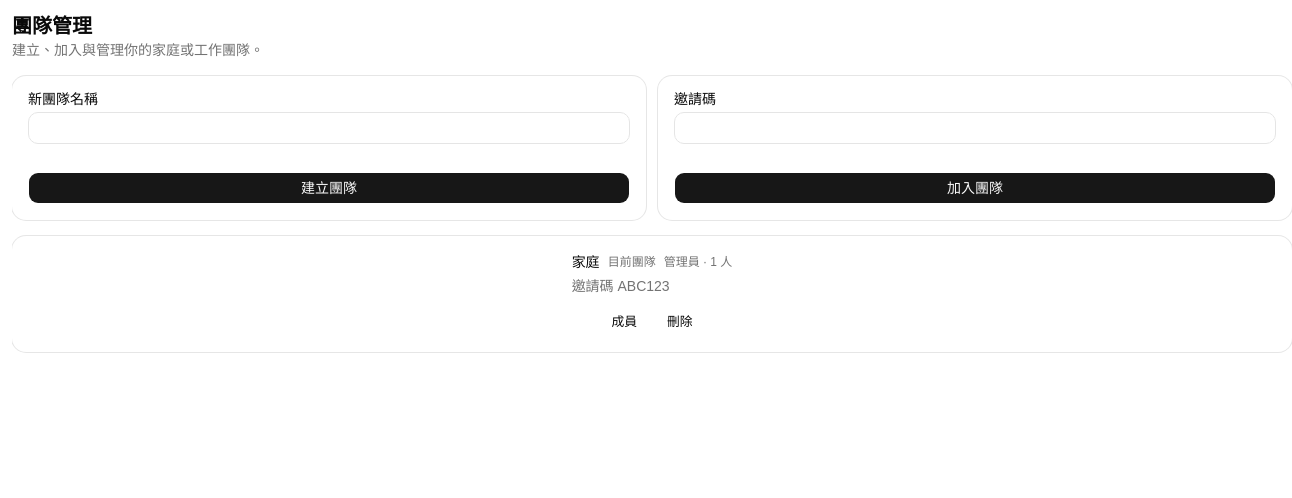
TeamsPage › joins a team with invite code
Type "joinme" into the field labelled "邀請碼" at x=975, y=128, box [674,112,1276,144]
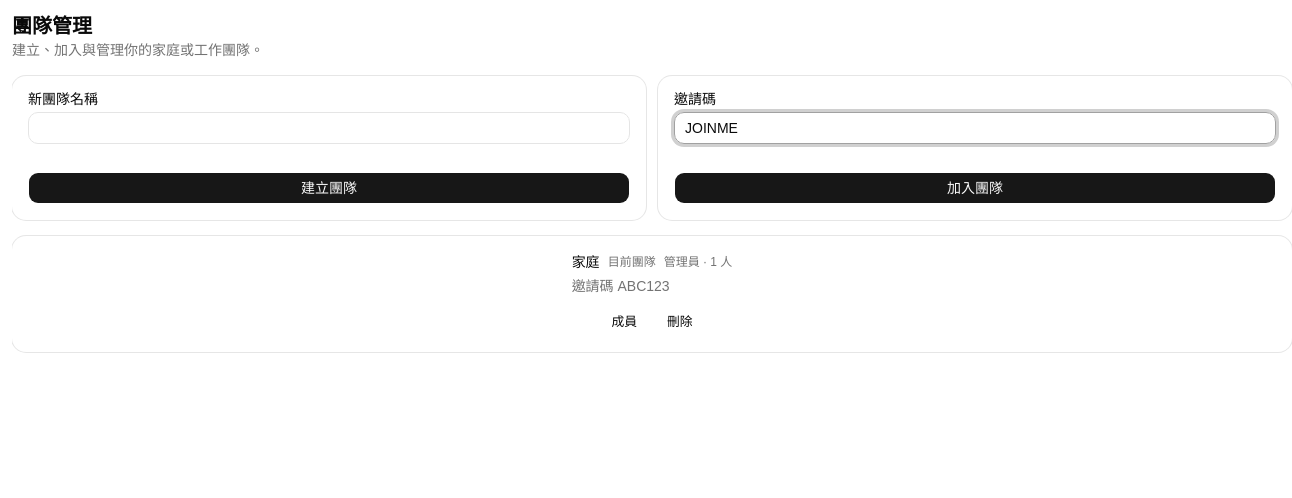
Click the button "加入團隊" at x=975, y=188, box [674,172,1276,204]
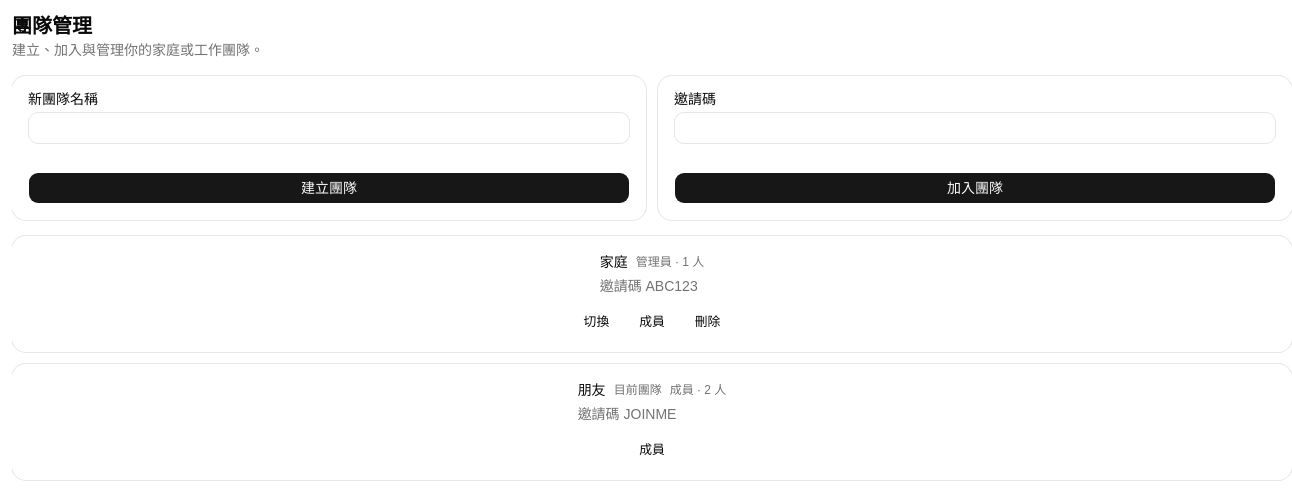
Expected: the text "朋友" is shown, [578,380,606,400]
